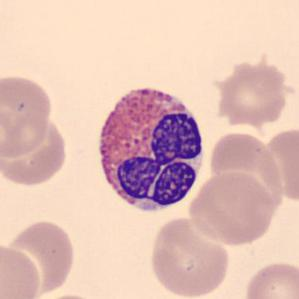Eosinophil: (88, 77, 210, 224)
RBC: (205, 128, 286, 220), (186, 169, 279, 247), (147, 215, 232, 299), (210, 52, 292, 127), (4, 217, 78, 296), (0, 113, 71, 188), (0, 72, 55, 160), (260, 123, 299, 205), (0, 240, 44, 299), (242, 258, 298, 299), (30, 292, 106, 299)
